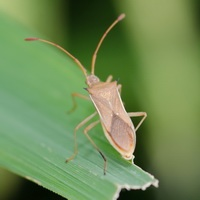insect: (25, 14, 146, 174)
